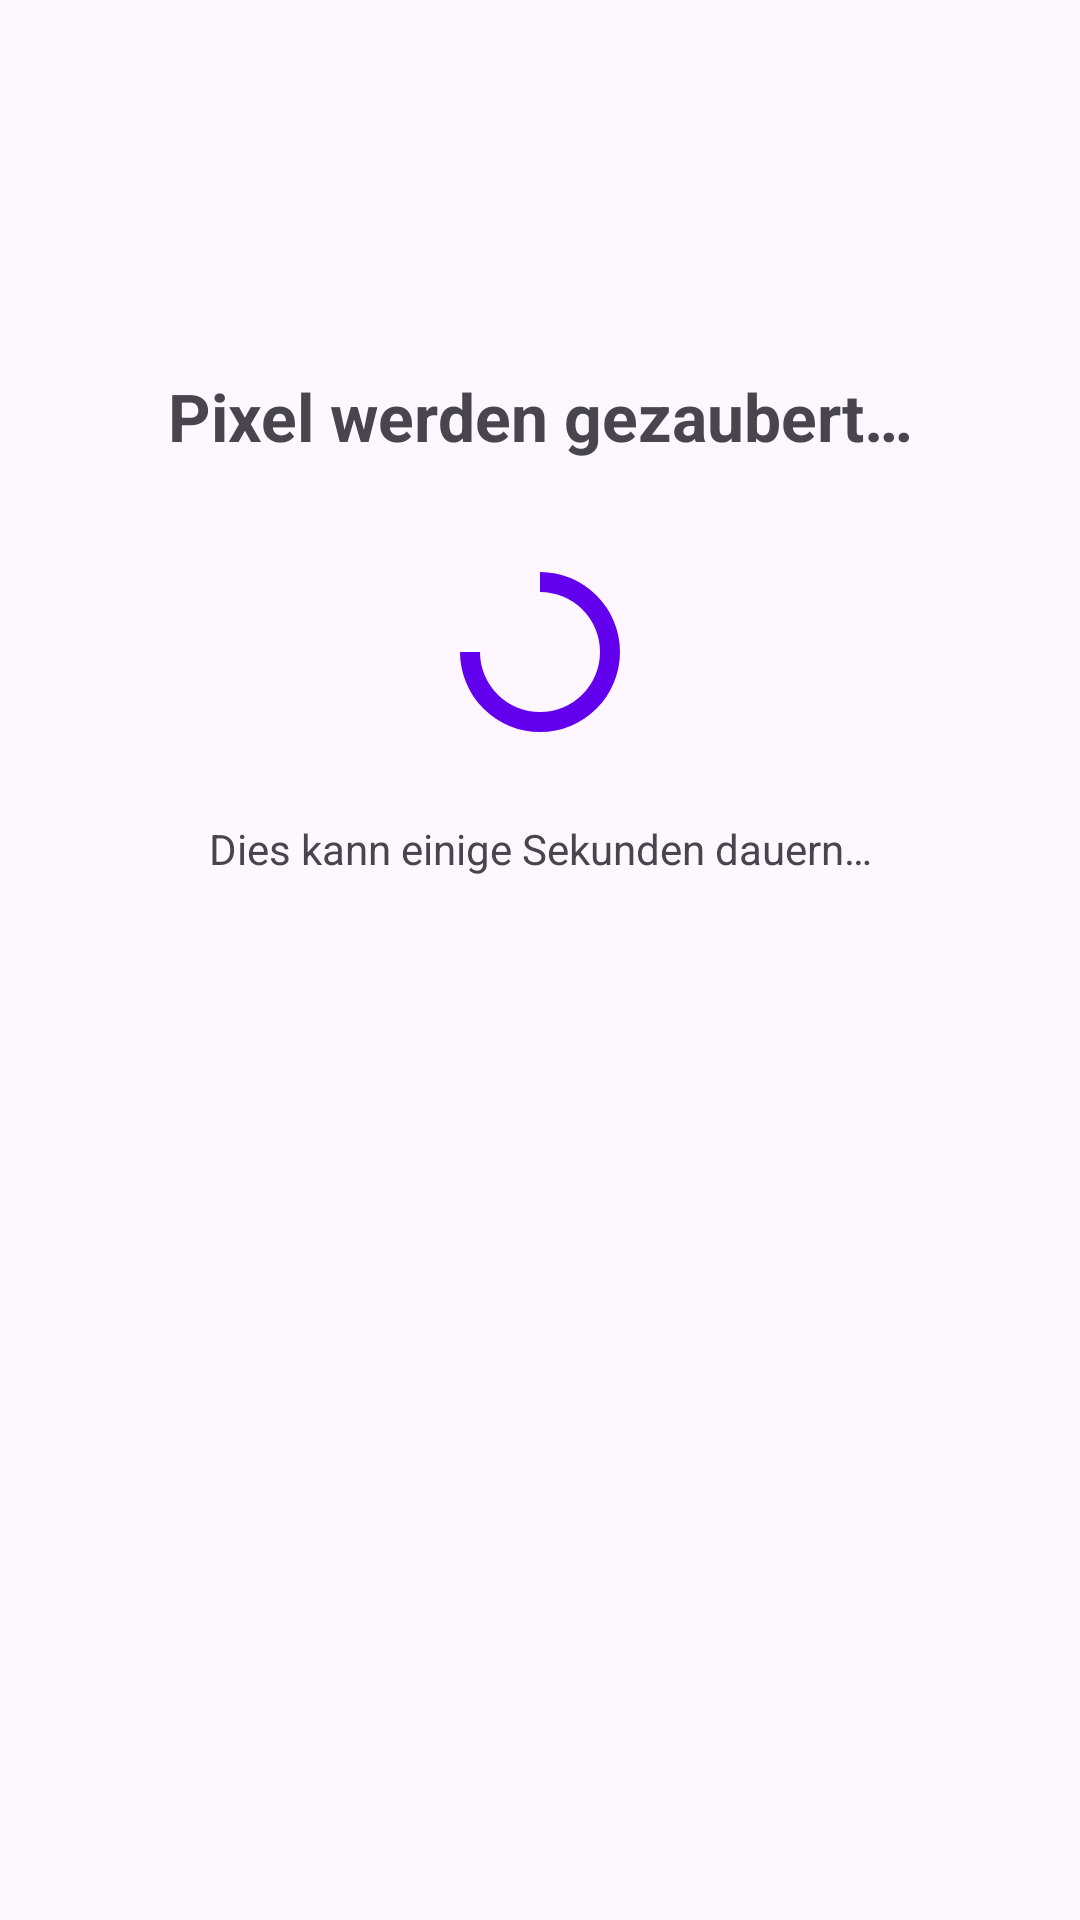

Point at icon controls on the screen. Image size 1080w x 1920h, points as [x,y].
Ladesymbol: [540,652]
